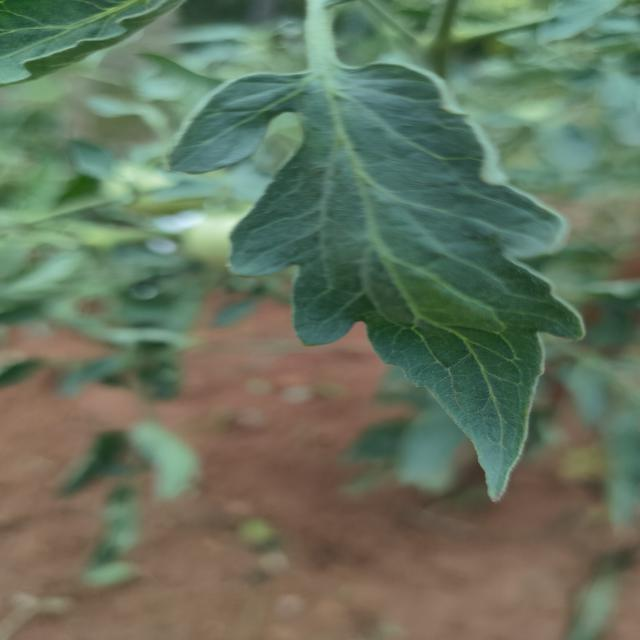tomato_healthy: (173, 61, 584, 502)
